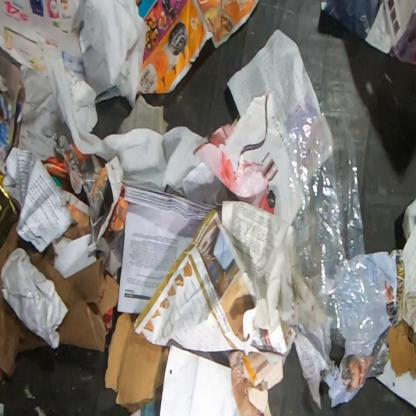cardboard: (138, 0, 259, 94), (30, 241, 119, 352), (0, 222, 48, 386), (104, 312, 170, 414), (388, 318, 415, 380), (64, 201, 91, 239)
soft_plastic: (286, 97, 391, 377)
